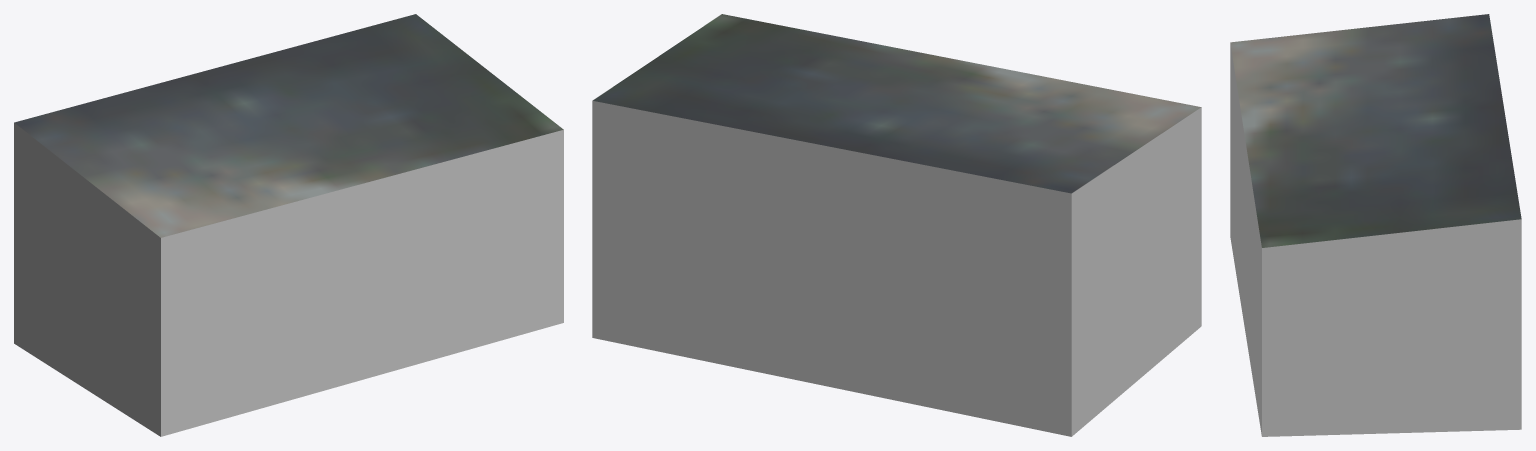
File: DEBW_0010007Txel.gltf
3 views of the same model, side by side, from view 1: azimuth 30°, elevation 25°; view 2: azimuth 150°, elevation 25°; view 3: azimuth 270°, elevation 25° (orthographic). The views are drawn at different scales.
Parts seen in each view (by area): view 1: Z_UP; view 2: Z_UP; view 3: Z_UP.
Part boxes in pixels (box(x1,y1,x2,y2)): Z_UP: box(14, 14, 563, 436); Z_UP: box(592, 14, 1201, 436); Z_UP: box(1230, 14, 1521, 436).
Size of the model in its own units: 5.73 by 2.79 by 3.41.
2 materials, 1 textured.
